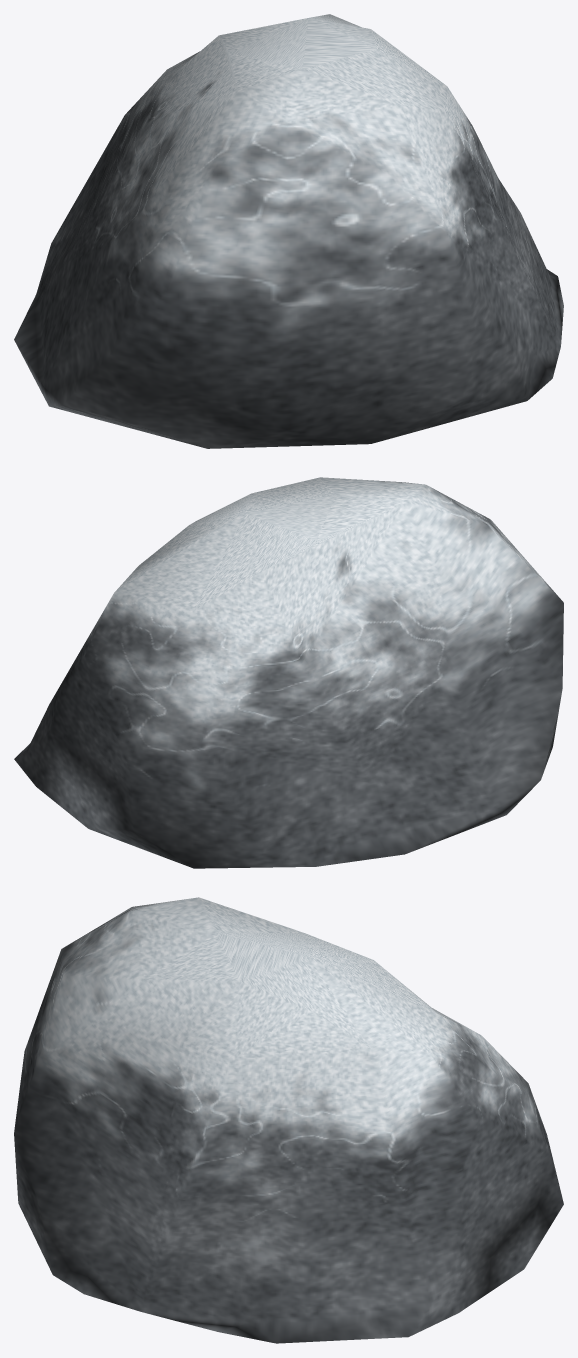
The model's file is rock_snowcap_boulder_a_lod2.glb.
3 renders of one model, top to bottom at view 1: azimuth 30°, elevation 25°; view 2: azimuth 150°, elevation 25°; view 3: azimuth 270°, elevation 25°, orthographic. The views are drawn at different scales.
Visible parts, largest first — view 1: rock_snowcap_boulder_a; view 2: rock_snowcap_boulder_a; view 3: rock_snowcap_boulder_a.
Boxes of the visible parts, x1,y1,x2,y2 form: rock_snowcap_boulder_a: (14,14,563,448); rock_snowcap_boulder_a: (14,477,563,868); rock_snowcap_boulder_a: (14,897,563,1343).
Bounding box in the file's own units: 2.04 × 1.12 × 1.98.
1 material, 1 textured.
